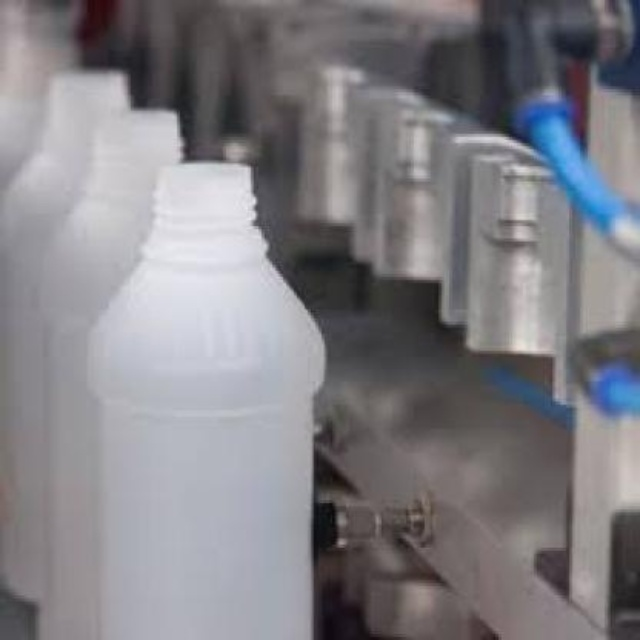trash: (92, 163, 323, 638)
